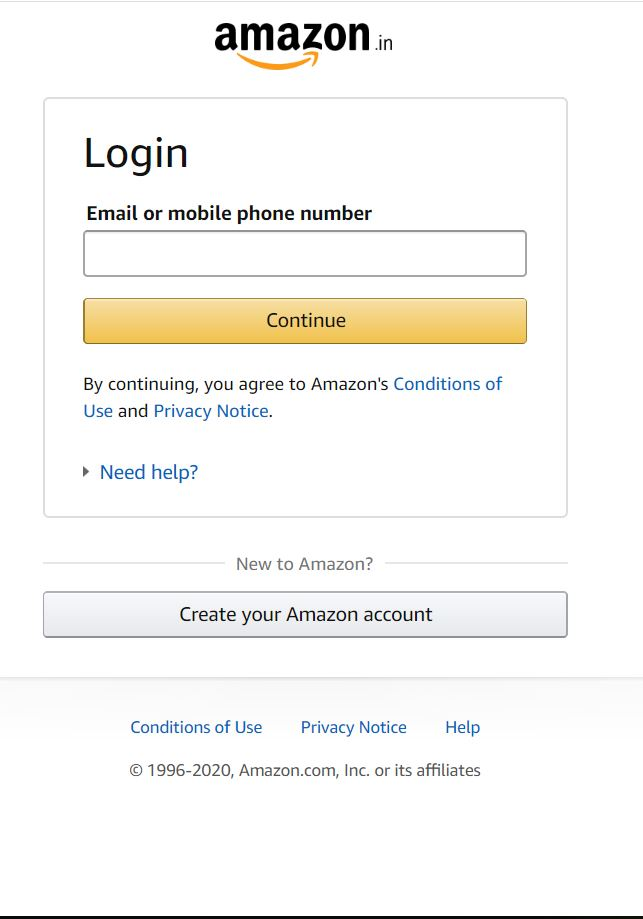button: (30, 582, 582, 645), (72, 293, 535, 353)
textbox: (79, 224, 538, 282)
